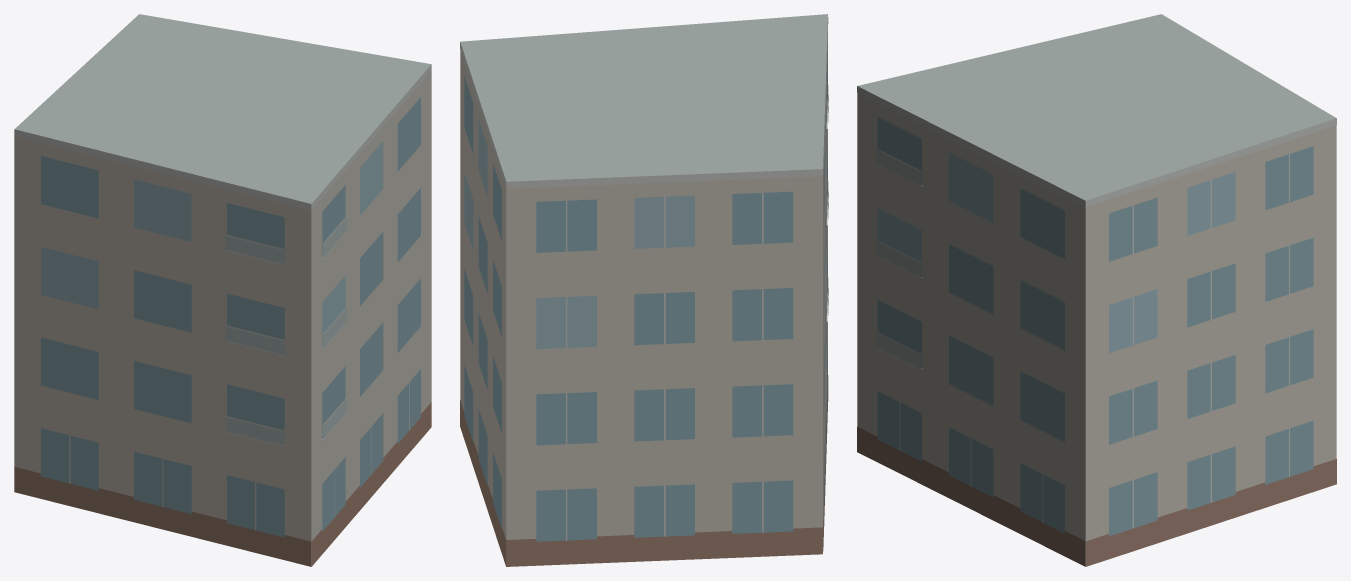
File: survey-upis-32802100.glb
3 views of the same model, side by side, from view 1: azimuth 30°, elevation 25°; view 2: azimuth 150°, elevation 25°; view 3: azimuth 270°, elevation 25° (orthographic). The views are drawn at different scales.
Visible parts, largest first — view 1: survey-upis-32802100.tmp; view 2: survey-upis-32802100.tmp; view 3: survey-upis-32802100.tmp.
Boxes of the visible parts, left/top/right/bottom form: survey-upis-32802100.tmp: left=14, top=14, right=431, bottom=566; survey-upis-32802100.tmp: left=460, top=14, right=828, bottom=566; survey-upis-32802100.tmp: left=857, top=14, right=1336, bottom=566.
Bounding box in the file's own units: 14.45 × 13.2 × 15.68.
